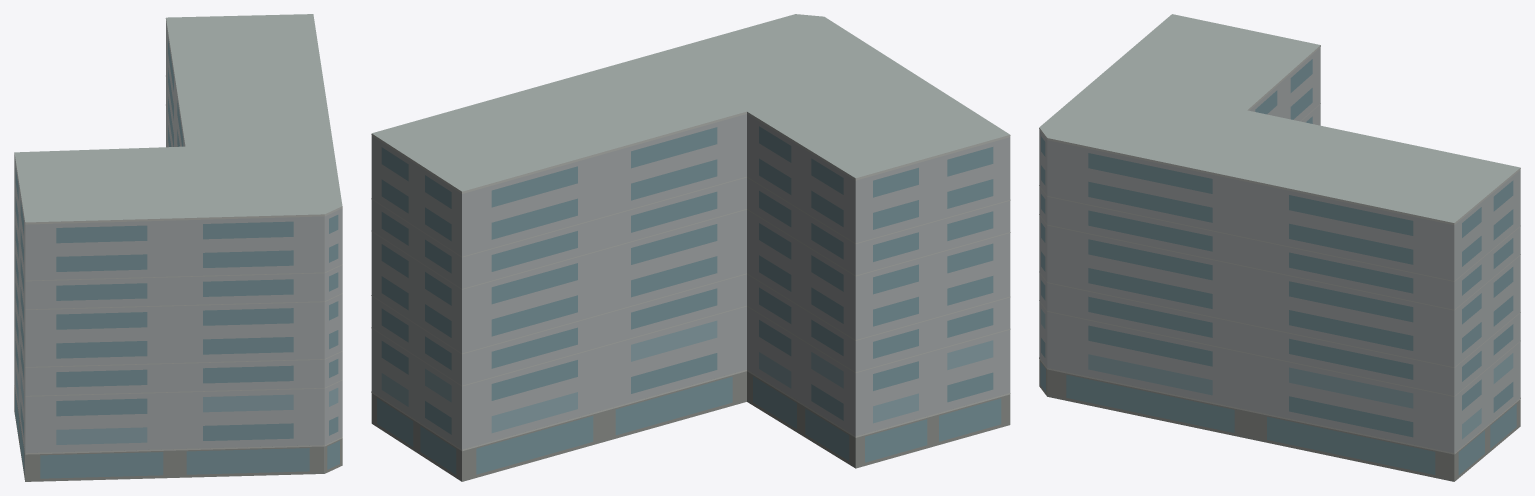
The model's file is residential-1cc4f7fc-bf8d-46fc-bd21-41eb7901565e.glb.
3 renders of one model, left to right at view 1: azimuth 30°, elevation 25°; view 2: azimuth 150°, elevation 25°; view 3: azimuth 270°, elevation 25°, orthographic. The views are drawn at different scales.
Parts seen in each view (by area): view 1: residential-1cc4f7fc-bf8d-46fc-bd21-41eb7901565e.tmp; view 2: residential-1cc4f7fc-bf8d-46fc-bd21-41eb7901565e.tmp; view 3: residential-1cc4f7fc-bf8d-46fc-bd21-41eb7901565e.tmp.
Boxes of the visible parts, bbox=[...] form: residential-1cc4f7fc-bf8d-46fc-bd21-41eb7901565e.tmp: bbox=[14, 14, 342, 481]; residential-1cc4f7fc-bf8d-46fc-bd21-41eb7901565e.tmp: bbox=[371, 14, 1010, 481]; residential-1cc4f7fc-bf8d-46fc-bd21-41eb7901565e.tmp: bbox=[1039, 14, 1520, 481].
Bounding box in the file's own units: 52.01 × 30 × 50.61.
